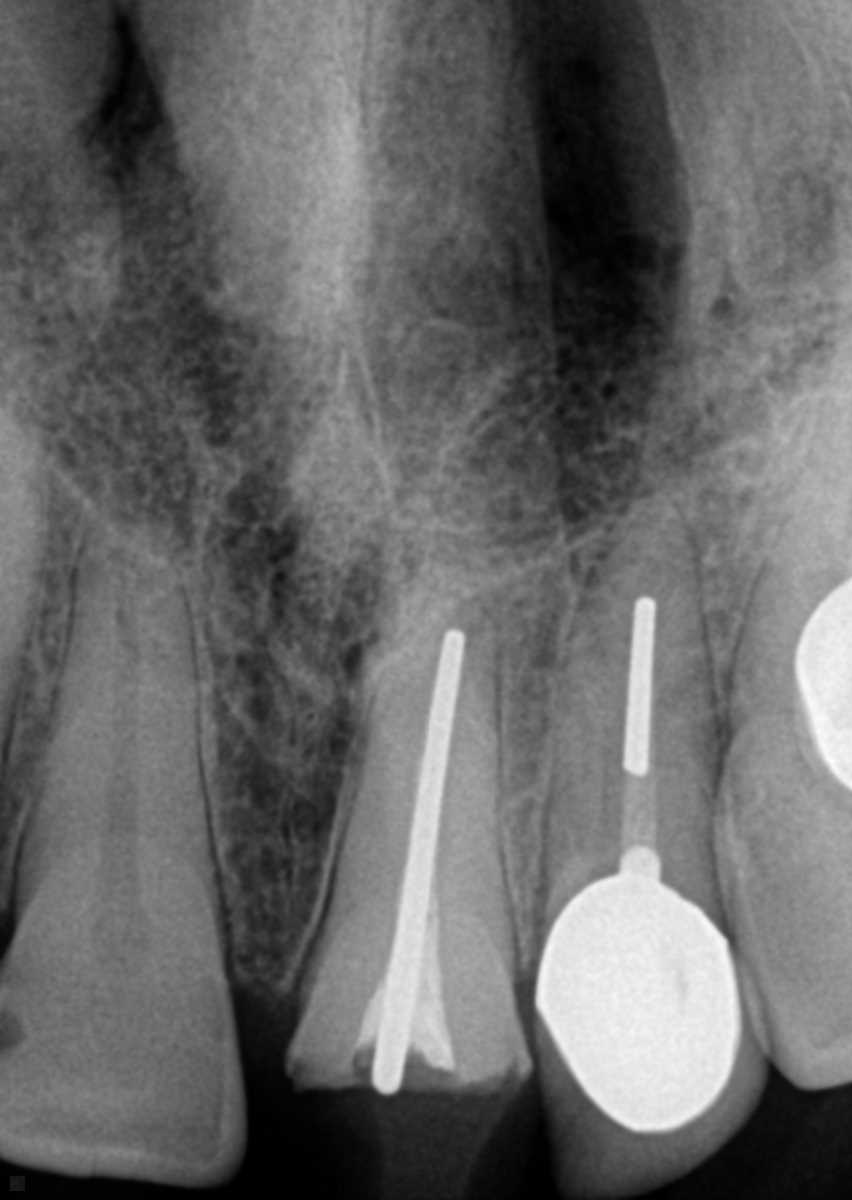Main Canal: (89, 525, 157, 952)
Main Root: (290, 569, 516, 1008), (9, 514, 214, 967), (539, 496, 734, 906)
